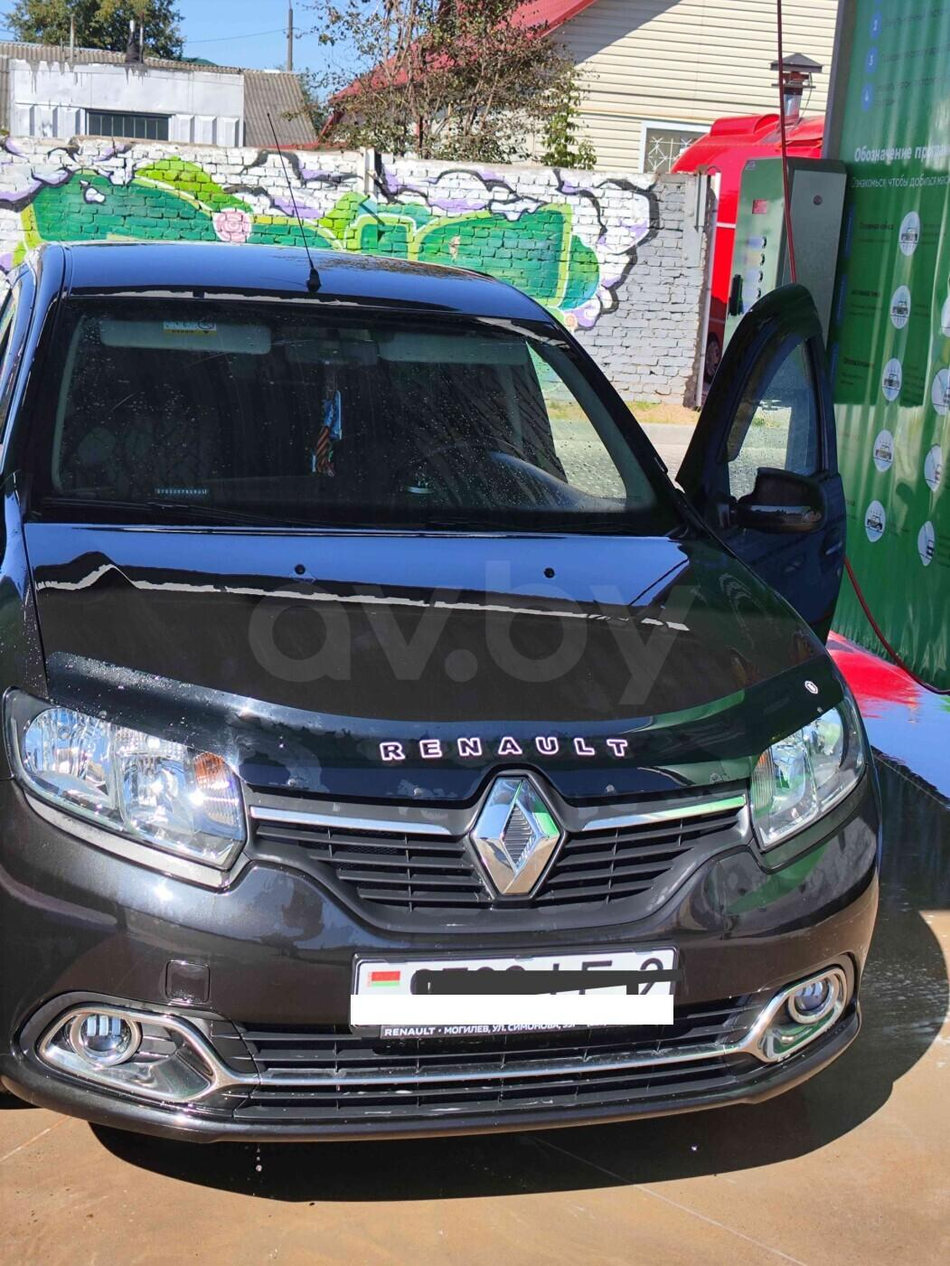Logan_2013-2018: (0, 230, 902, 1156)
